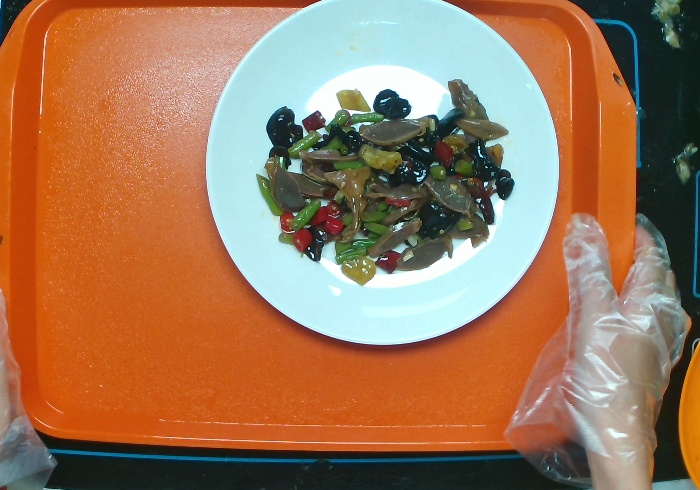HZYJPL-Bai_Se_Yuan_Pan: (201, 1, 567, 362)
